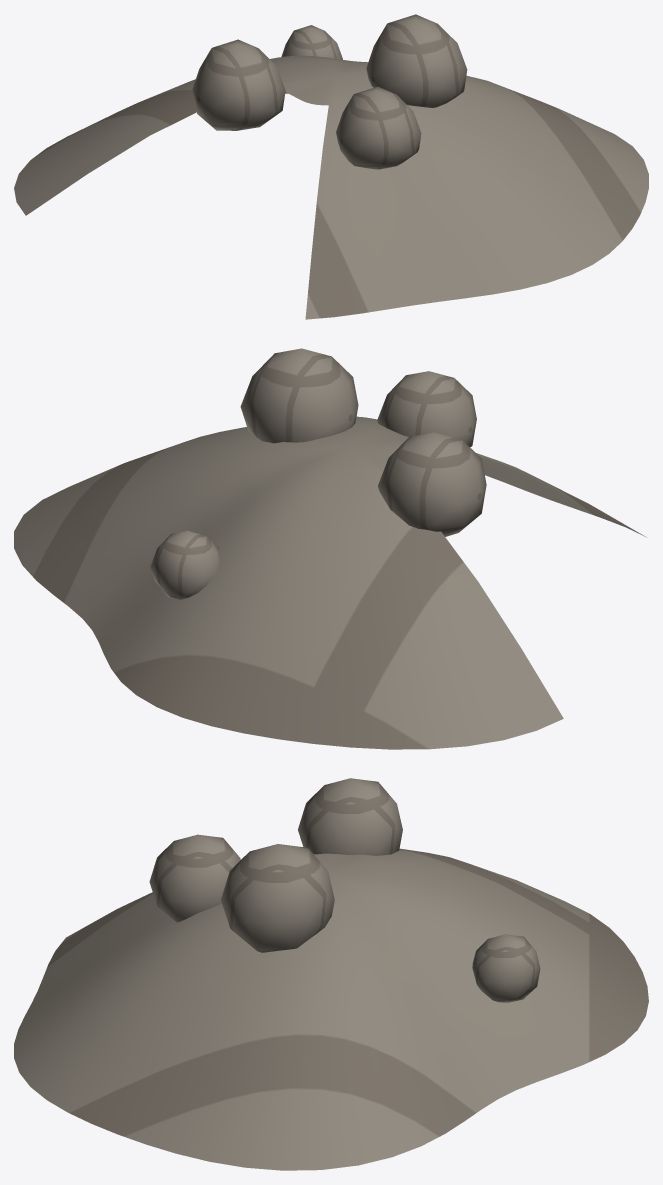
Rendered from ISL-S_LOD0_Reef.fbx.
3 renders of one model, top to bottom at view 1: azimuth 30°, elevation 25°; view 2: azimuth 150°, elevation 25°; view 3: azimuth 270°, elevation 25°, orthographic. The views are drawn at different scales.
Parts seen in each view (by area): view 1: ISL-S_LOD0_Reef; view 2: ISL-S_LOD0_Reef; view 3: ISL-S_LOD0_Reef.
Boxes of the visible parts, x1,y1,x2,y2 form: ISL-S_LOD0_Reef: (14,14,648,319); ISL-S_LOD0_Reef: (14,348,646,749); ISL-S_LOD0_Reef: (14,778,648,1170).
Size of the model in its own units: 31.32 by 28.96 by 10.33.
